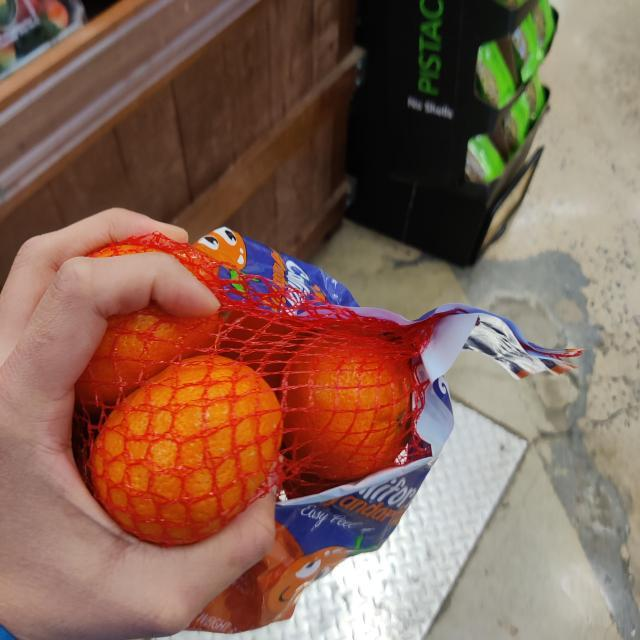Oranges: (88, 224, 436, 634)
